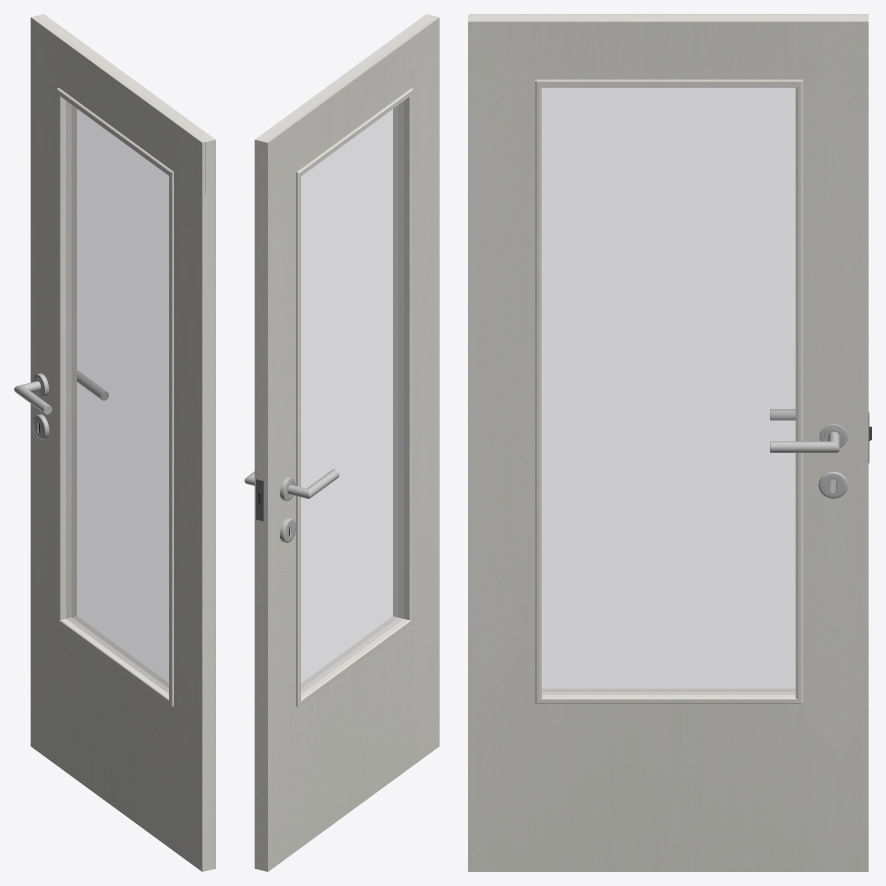
The model's file is door13.glb.
The picture shows the model from 3 angles, left to right: view 1: azimuth 30°, elevation 25°; view 2: azimuth 150°, elevation 25°; view 3: azimuth 270°, elevation 25°; orthographic projection. The views are drawn at different scales.
Parts seen in each view (by area): view 1: TB-LA, Door_Handle_01; view 2: TB-LA, Door_Handle_01; view 3: TB-LA, Door_Handle_01.
Boxes of the visible parts, x1,y1,x2,y2 form: TB-LA: (30, 14, 215, 871); Door_Handle_01: (14, 371, 108, 439); TB-LA: (254, 14, 439, 871); Door_Handle_01: (244, 469, 339, 542); TB-LA: (468, 14, 871, 871); Door_Handle_01: (770, 409, 847, 498).
Bounding box in the file's own units: 0.1566 × 1.67 × 0.7188.
6 materials, 1 textured.
